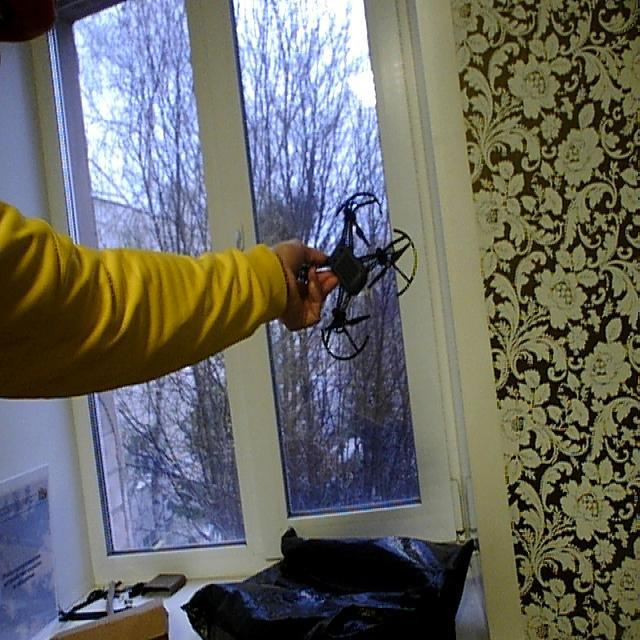drones: (288, 180, 433, 365)
